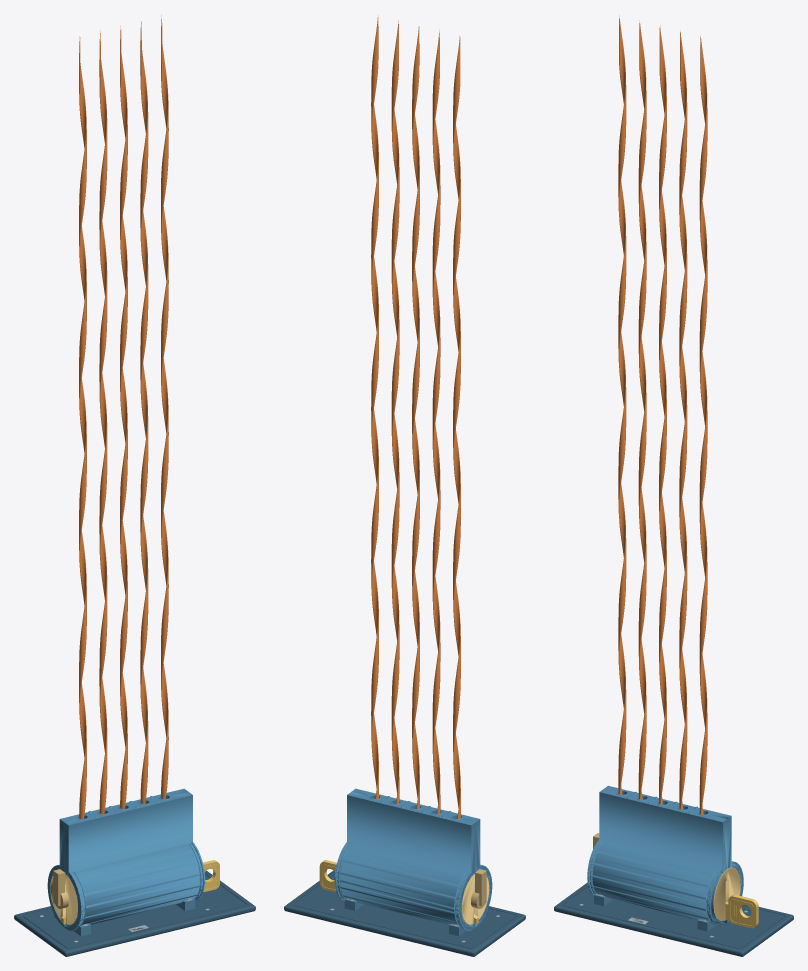
File: lock.glb
3 renders of one model, left to right at view 1: azimuth 30°, elevation 25°; view 2: azimuth 150°, elevation 25°; view 3: azimuth 330°, elevation 25°, orthographic.
Parts seen in each view (by area): view 1: shell-front, base, spring-2, spring-4, spring-1, spring-3, spring-5, shell-back; view 2: shell-back, base, spring-2, spring-4, spring-3, spring-1, spring-5, shell-front; view 3: shell-front, base, spring-5, spring-1, spring-2, spring-4, spring-3, shell-back, key-correct.
Part boxes in pixels (x1=…): shell-front: x1=64, y1=792, x2=205, y2=930; base: x1=14, y1=870, x2=255, y2=956; spring-2: x1=99, y1=30, x2=107, y2=813; spring-4: x1=140, y1=21, x2=148, y2=803; spring-1: x1=79, y1=36, x2=86, y2=818; spring-3: x1=120, y1=25, x2=127, y2=808; spring-5: x1=161, y1=14, x2=168, y2=798; shell-back: x1=47, y1=788, x2=188, y2=926; shell-back: x1=334, y1=792, x2=475, y2=930; base: x1=284, y1=870, x2=525, y2=956; spring-2: x1=432, y1=29, x2=440, y2=813; spring-4: x1=391, y1=20, x2=399, y2=803; spring-3: x1=412, y1=26, x2=419, y2=808; spring-1: x1=453, y1=36, x2=460, y2=818; spring-5: x1=371, y1=15, x2=378, y2=798; shell-front: x1=351, y1=788, x2=492, y2=926; shell-front: x1=587, y1=789, x2=727, y2=926; base: x1=554, y1=882, x2=793, y2=956; spring-5: x1=699, y1=35, x2=707, y2=814; spring-1: x1=618, y1=15, x2=626, y2=794; spring-2: x1=638, y1=20, x2=646, y2=799; spring-4: x1=679, y1=30, x2=687, y2=809; spring-3: x1=659, y1=25, x2=666, y2=804; shell-back: x1=604, y1=785, x2=743, y2=923; key-correct: x1=725, y1=894, x2=758, y2=928.
Bounding box in the file's own units: 0.224 × 1.01 × 0.106.
